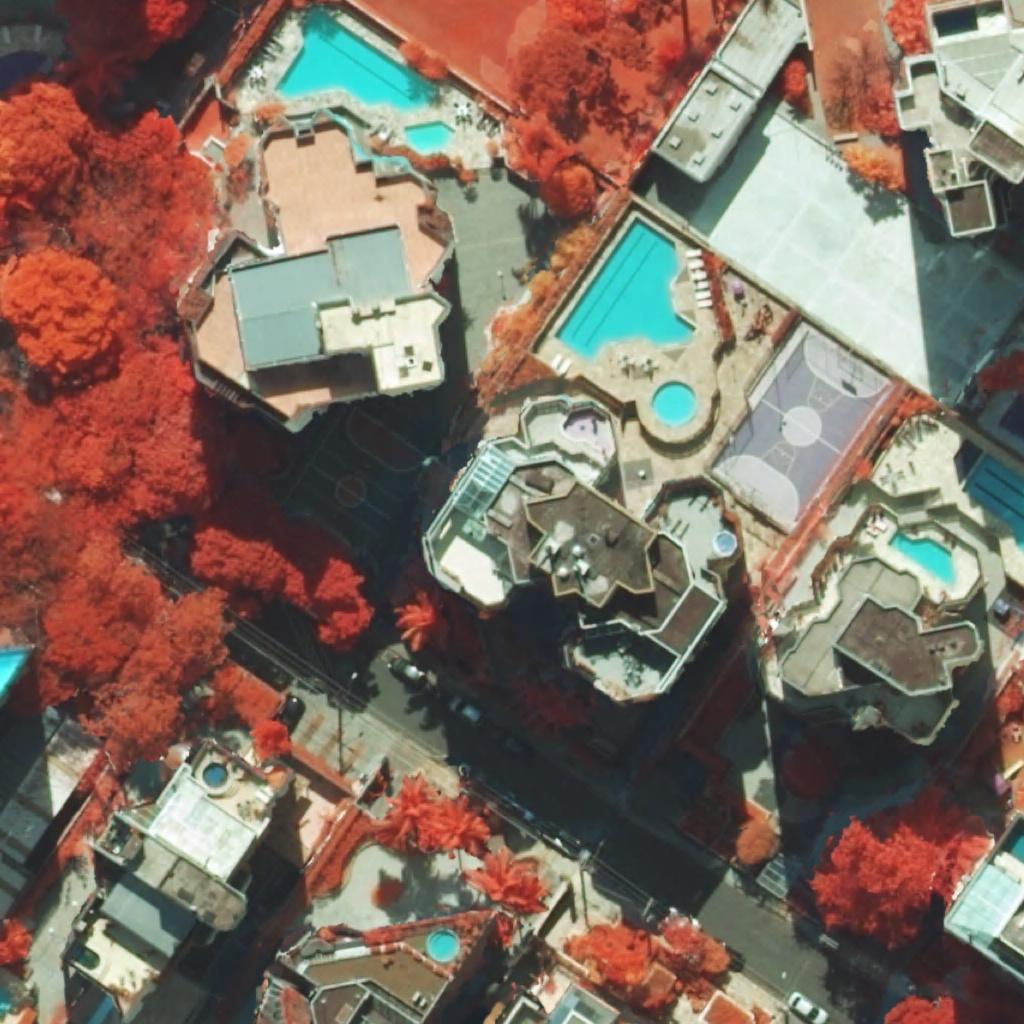pool: (553, 217, 696, 361), (274, 7, 439, 113), (962, 453, 1024, 550), (888, 531, 956, 585), (651, 381, 697, 424), (405, 122, 456, 151), (998, 394, 1024, 441), (999, 820, 1024, 864), (429, 930, 458, 960), (71, 943, 100, 970), (202, 762, 228, 789), (0, 984, 12, 1015)
